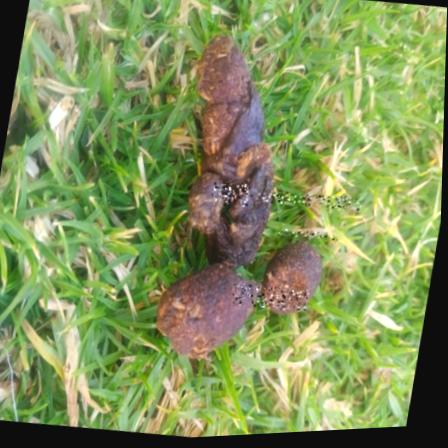dog-poop: (148, 215, 336, 379), (174, 47, 309, 254)
